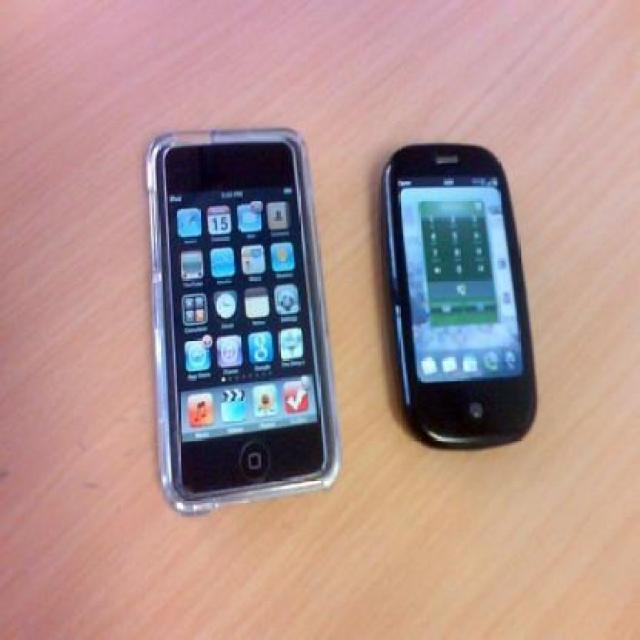phone: (148, 127, 340, 515), (380, 144, 538, 450)
